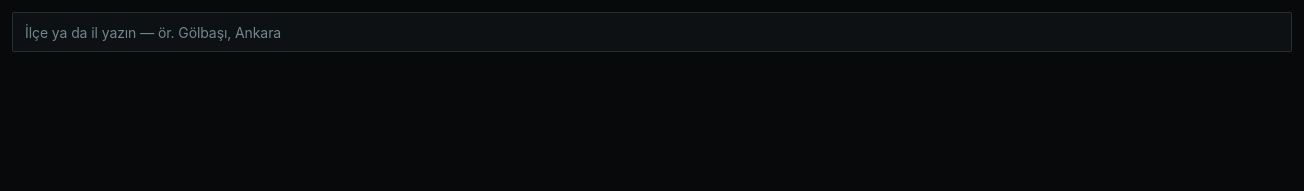
Test: LocationTypeahead · il geneli › açıkken il satırı listenin başında
Type "ankara" into the search field at (652, 32), box [12, 12, 1292, 52]
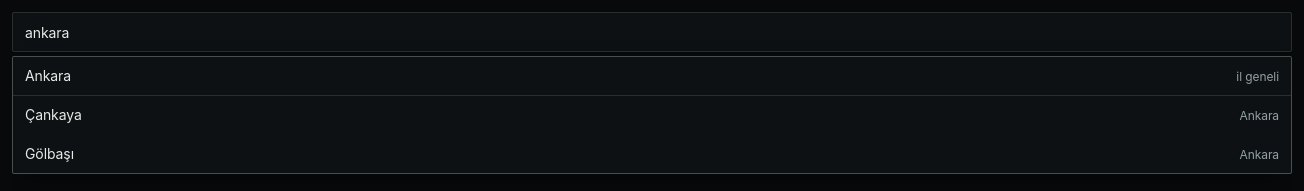
Check: the text "il geneli" is shown, box [1236, 68, 1279, 85]
Check: the button "Ankara il geneli" is shown, box [13, 57, 1291, 96]
